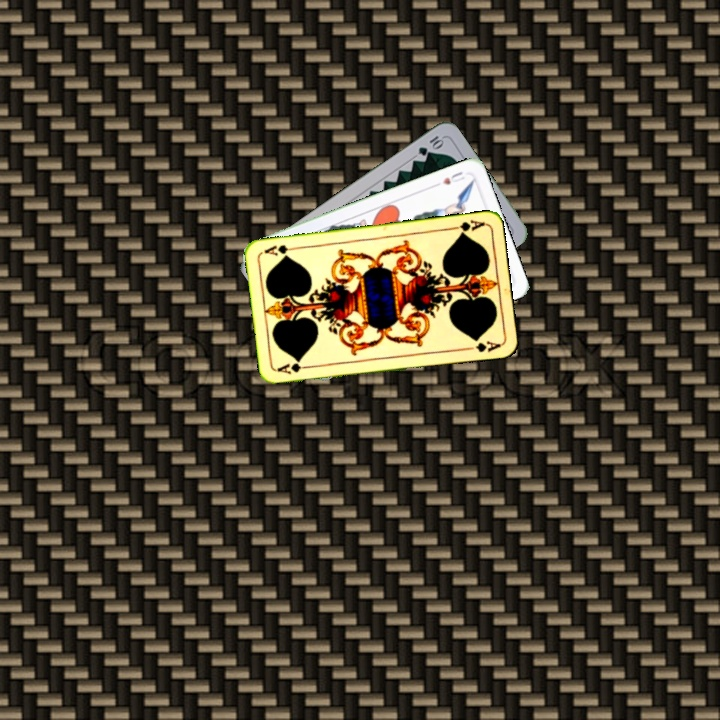G10: (414, 131, 447, 158)
GA: (446, 216, 487, 237), (273, 359, 314, 377)
HU: (438, 167, 467, 187)
